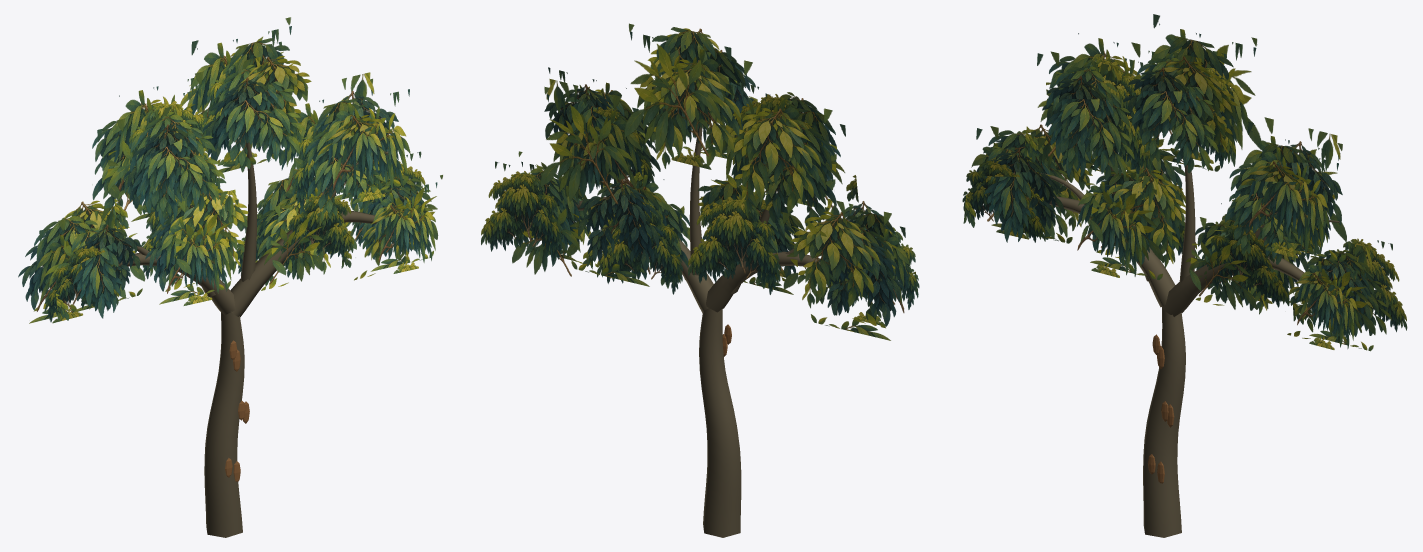
File: TREE_EUCALYPTUS_001_LOD_CLOSE.glb
The picture shows the model from 3 angles, left to right: view 1: azimuth 30°, elevation 25°; view 2: azimuth 150°, elevation 25°; view 3: azimuth 330°, elevation 25°; orthographic projection. The views are drawn at different scales.
Visible parts, largest first — view 1: GG_EUC_V4_MAIN_TRUNK, GG_EUC_FRONT_ISLAND_01_CLUSTER_02, GG_EUC_FRONT_ISLAND_02_CLUSTER_01, GG_EUC_FRONT_ISLAND_03_CLUSTER_02, GG_EUC_FRONT_ISLAND_05_CLUSTER_00, GG_EUC_FRONT_ISLAND_03_CLUSTER_00, GG_EUC_FRONT_ISLAND_04_CLUSTER_01, GG_EUC_FRONT_ISLAND_06_CLUSTER_02, GG_EUC_FRONT_ISLAND_00_CLUSTER_01, GG_EUC_BODY_ISLAND_05_CLUSTER_02, GG_EUC_FRONT_ISLAND_02_CLUSTER_00, GG_EUC_FRONT_ISLAND_02_CLUSTER_02 (+34 smaller); view 2: GG_EUC_V4_MAIN_TRUNK, GG_EUC_REAR_ISLAND_01_CLUSTER_01, GG_EUC_REAR_ISLAND_05_CLUSTER_01, GG_EUC_REAR_ISLAND_00_CLUSTER_02, GG_EUC_REAR_ISLAND_06_CLUSTER_02, GG_EUC_REAR_ISLAND_02_CLUSTER_00, GG_EUC_REAR_ISLAND_04_CLUSTER_02, GG_EUC_REAR_ISLAND_02_CLUSTER_02, GG_EUC_REAR_ISLAND_03_CLUSTER_00, GG_EUC_REAR_ISLAND_00_CLUSTER_00, GG_EUC_REAR_ISLAND_03_CLUSTER_01, GG_EUC_REAR_ISLAND_06_CLUSTER_00 (+27 smaller); view 3: GG_EUC_V4_MAIN_TRUNK, GG_EUC_FRONT_ISLAND_01_CLUSTER_02, GG_EUC_FRONT_ISLAND_02_CLUSTER_01, GG_EUC_FRONT_ISLAND_03_CLUSTER_02, GG_EUC_FRONT_ISLAND_05_CLUSTER_00, GG_EUC_BODY_ISLAND_05_CLUSTER_02, GG_EUC_FRONT_ISLAND_06_CLUSTER_02, GG_EUC_FRONT_ISLAND_03_CLUSTER_00, GG_EUC_FRONT_ISLAND_04_CLUSTER_01, GG_EUC_FRONT_ISLAND_00_CLUSTER_01, GG_EUC_FRONT_ISLAND_02_CLUSTER_02, GG_EUC_BODY_ISLAND_03_CLUSTER_02 (+33 smaller).
Boxes of the visible parts, bbox=[...] form: GG_EUC_V4_MAIN_TRUNK: bbox=[204, 312, 244, 537]; GG_EUC_FRONT_ISLAND_01_CLUSTER_02: bbox=[137, 112, 224, 217]; GG_EUC_FRONT_ISLAND_02_CLUSTER_01: bbox=[215, 64, 305, 172]; GG_EUC_FRONT_ISLAND_03_CLUSTER_02: bbox=[325, 89, 410, 203]; GG_EUC_FRONT_ISLAND_05_CLUSTER_00: bbox=[160, 208, 233, 305]; GG_EUC_FRONT_ISLAND_03_CLUSTER_00: bbox=[305, 131, 387, 218]; GG_EUC_FRONT_ISLAND_04_CLUSTER_01: bbox=[373, 182, 437, 273]; GG_EUC_FRONT_ISLAND_06_CLUSTER_02: bbox=[281, 186, 353, 269]; GG_EUC_FRONT_ISLAND_00_CLUSTER_01: bbox=[56, 228, 121, 321]; GG_EUC_BODY_ISLAND_05_CLUSTER_02: bbox=[165, 186, 248, 291]; GG_EUC_FRONT_ISLAND_02_CLUSTER_00: bbox=[202, 77, 284, 174]; GG_EUC_FRONT_ISLAND_02_CLUSTER_02: bbox=[217, 56, 311, 162]; GG_EUC_V4_MAIN_TRUNK: bbox=[699, 308, 741, 537]; GG_EUC_REAR_ISLAND_01_CLUSTER_01: bbox=[730, 108, 827, 236]; GG_EUC_REAR_ISLAND_05_CLUSTER_01: bbox=[688, 185, 780, 294]; GG_EUC_REAR_ISLAND_00_CLUSTER_02: bbox=[791, 211, 885, 328]; GG_EUC_REAR_ISLAND_06_CLUSTER_02: bbox=[571, 179, 663, 286]; GG_EUC_REAR_ISLAND_02_CLUSTER_00: bbox=[647, 59, 747, 190]; GG_EUC_REAR_ISLAND_04_CLUSTER_02: bbox=[481, 161, 562, 261]; GG_EUC_REAR_ISLAND_02_CLUSTER_02: bbox=[624, 23, 731, 156]; GG_EUC_REAR_ISLAND_03_CLUSTER_00: bbox=[546, 94, 642, 209]; GG_EUC_REAR_ISLAND_00_CLUSTER_00: bbox=[811, 233, 904, 340]; GG_EUC_REAR_ISLAND_03_CLUSTER_01: bbox=[540, 86, 638, 204]; GG_EUC_REAR_ISLAND_06_CLUSTER_00: bbox=[597, 202, 683, 294]; GG_EUC_V4_MAIN_TRUNK: bbox=[1143, 306, 1185, 537]; GG_EUC_FRONT_ISLAND_01_CLUSTER_02: bbox=[1051, 66, 1134, 180]; GG_EUC_FRONT_ISLAND_02_CLUSTER_01: bbox=[1132, 57, 1218, 173]; GG_EUC_FRONT_ISLAND_03_CLUSTER_02: bbox=[1248, 142, 1338, 258]; GG_EUC_FRONT_ISLAND_05_CLUSTER_00: bbox=[1077, 177, 1155, 277]; GG_EUC_BODY_ISLAND_05_CLUSTER_02: bbox=[1096, 166, 1185, 267]; GG_EUC_FRONT_ISLAND_06_CLUSTER_02: bbox=[1207, 224, 1288, 307]; GG_EUC_FRONT_ISLAND_03_CLUSTER_00: bbox=[1225, 163, 1303, 264]; GG_EUC_FRONT_ISLAND_04_CLUSTER_01: bbox=[1296, 257, 1366, 349]; GG_EUC_FRONT_ISLAND_00_CLUSTER_01: bbox=[963, 146, 1037, 242]; GG_EUC_FRONT_ISLAND_02_CLUSTER_02: bbox=[1145, 56, 1237, 152]; GG_EUC_BODY_ISLAND_03_CLUSTER_02: bbox=[1253, 141, 1345, 261].
Size of the model in its own units: 6.46 by 7.16 by 0.8615.
Materials: 3 (1 with a texture image).
